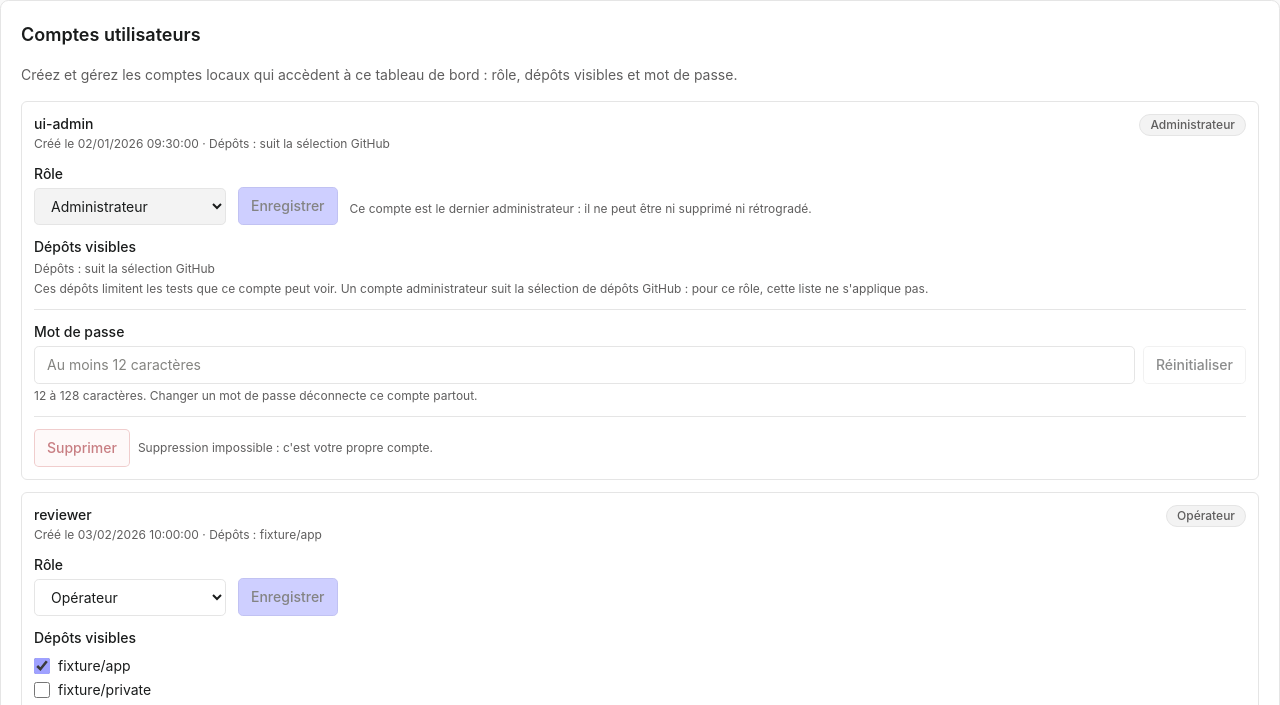
Test: AccountsSettings › changes a role and the repositories on the server
The image size is (1280, 705).
Select "Lecture" in the dropdown labelled "Rôle" below "reviewer": (130, 598) [34, 579, 226, 616]
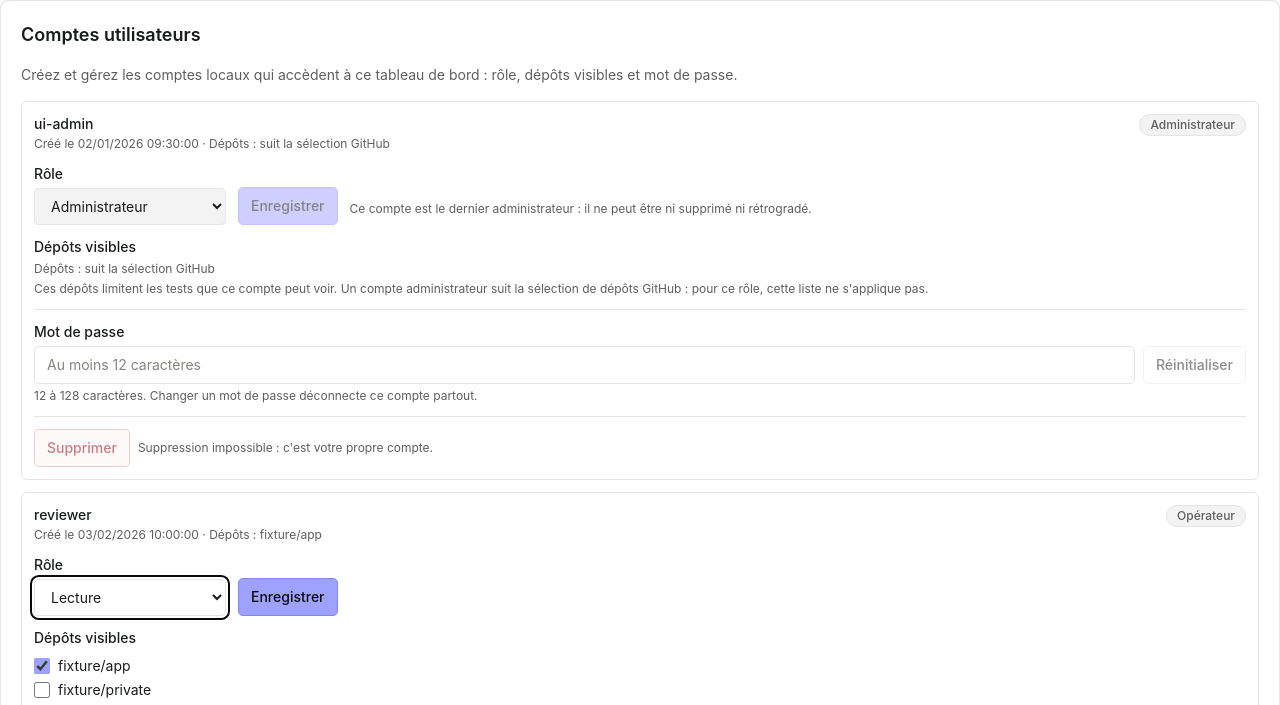
Click the checkbox labelled "fixture/private": (42, 690) [34, 682, 50, 698]
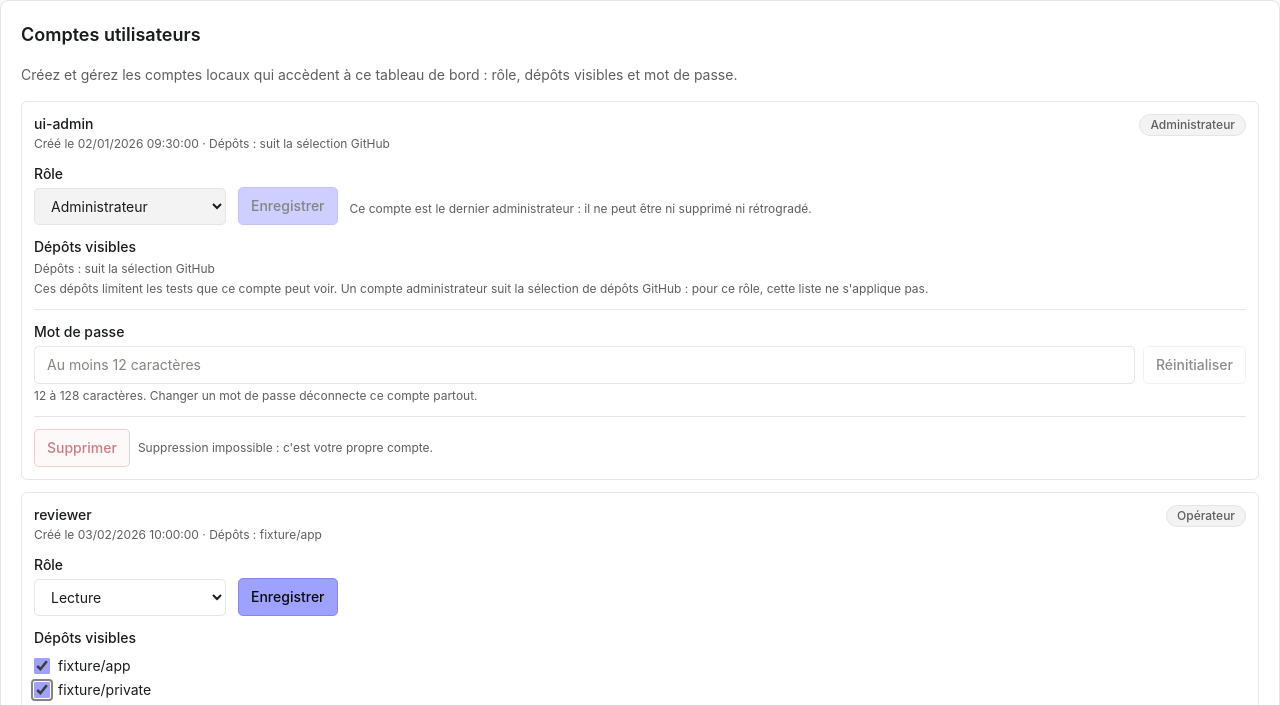
Click the button "Enregistrer" below "reviewer": (288, 597) [238, 578, 338, 616]
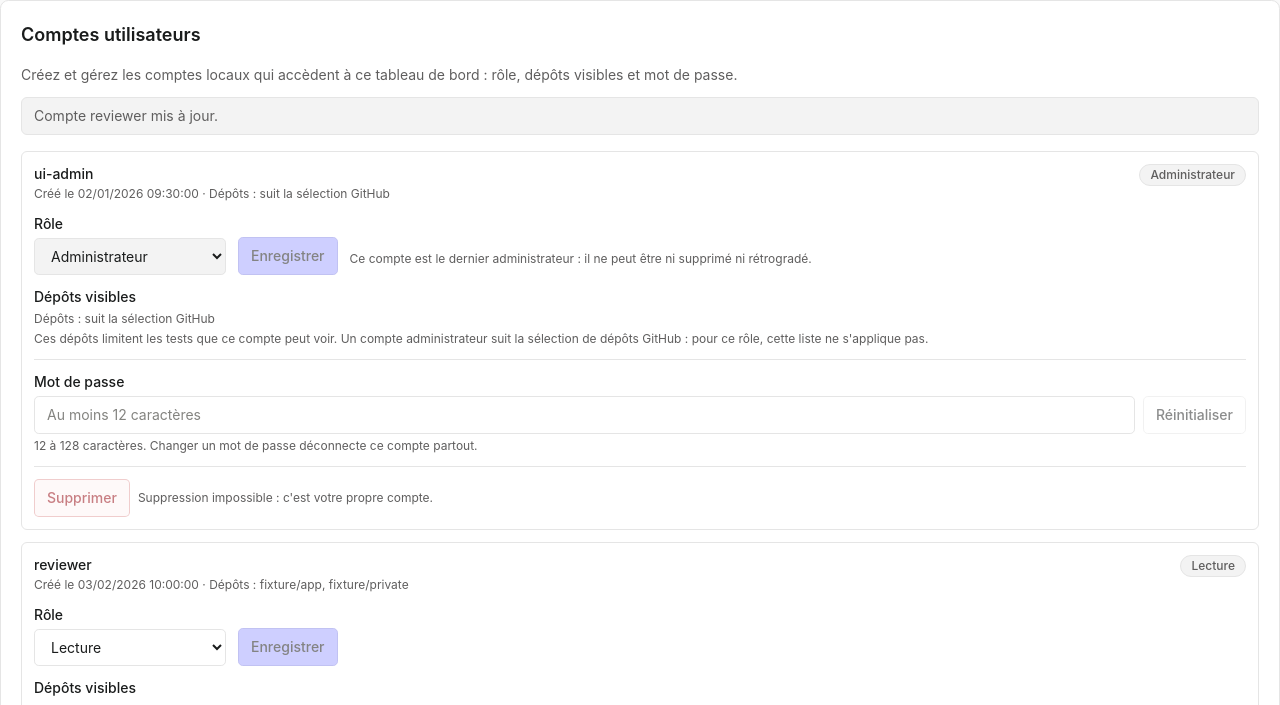
Expected: the text "Lecture" is shown, [1180, 555, 1246, 577]
